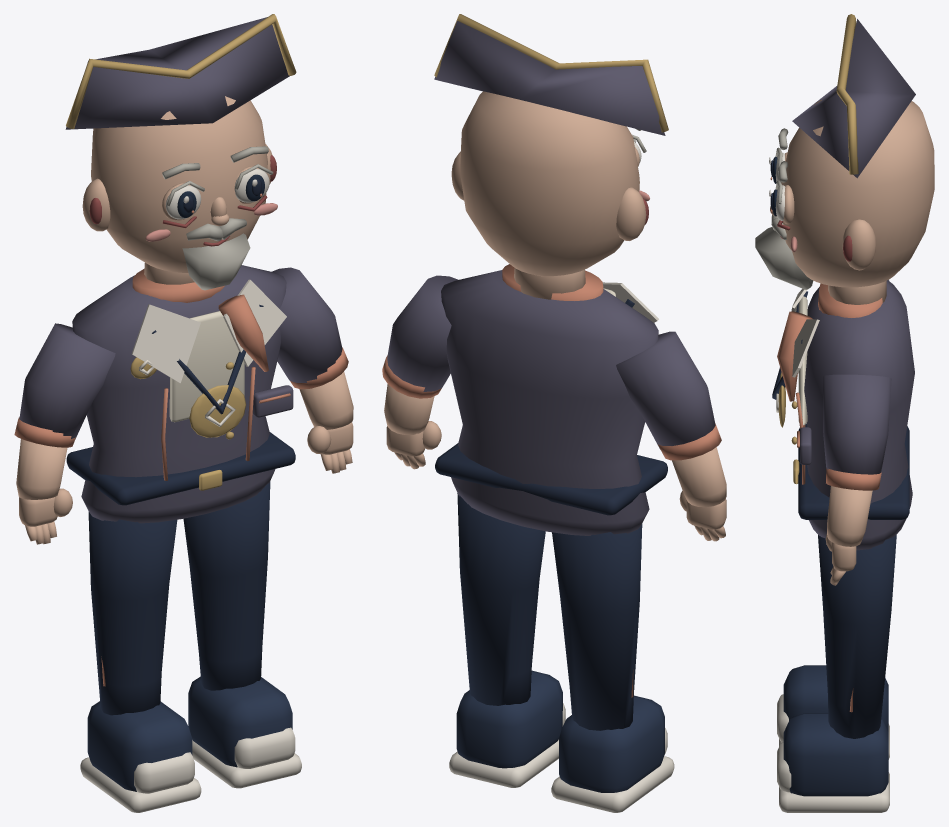
File: npc_npc_shore_pirate_reward.glb
The picture shows the model from 3 angles, left to right: view 1: azimuth 30°, elevation 25°; view 2: azimuth 150°, elevation 25°; view 3: azimuth 270°, elevation 25°; orthographic projection. The views are drawn at different scales.
Visible parts, largest first — view 1: figure.041; view 2: figure.041; view 3: figure.041.
Boxes of the visible parts, x1,y1,x2,y2 form: figure.041: (14, 14, 353, 812); figure.041: (382, 14, 726, 812); figure.041: (755, 14, 934, 812).
Bounding box in the file's own units: 0.7215 × 1.52 × 0.3446.
